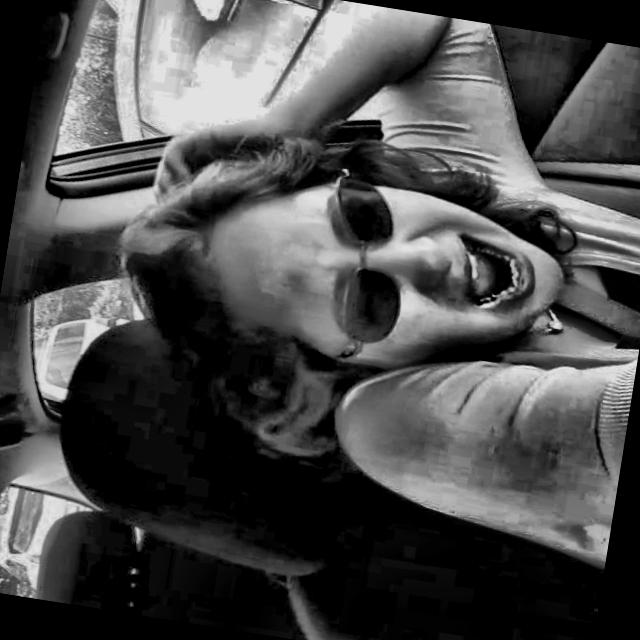open_mouth: (448, 215, 542, 334)
